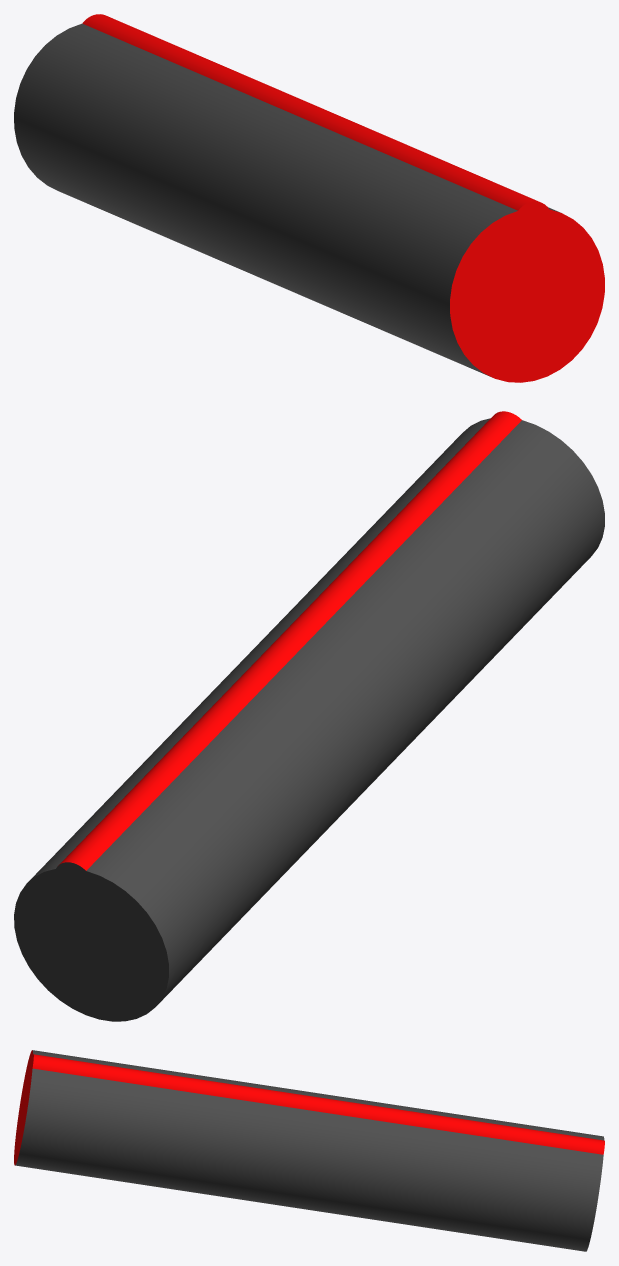
File: GripRoller.glb
3 views of the same model, one above another, from view 1: azimuth 30°, elevation 25°; view 2: azimuth 150°, elevation 25°; view 3: azimuth 270°, elevation 25° (orthographic). The views are drawn at different scales.
Parts seen in each view (by area): view 1: Part 21; view 2: Part 21; view 3: Part 21.
Boxes of the visible parts, x1,y1,x2,y2 form: Part 21: (14,14,604,382); Part 21: (14,411,604,1021); Part 21: (14,1050,604,1251).
Bounding box in the file's own units: 0.0508 × 0.0931 × 0.2565.
